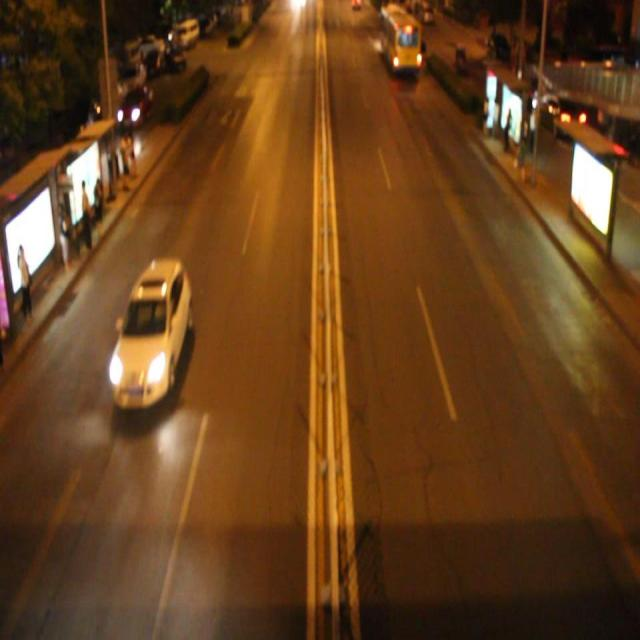car: (108, 259, 194, 409)
